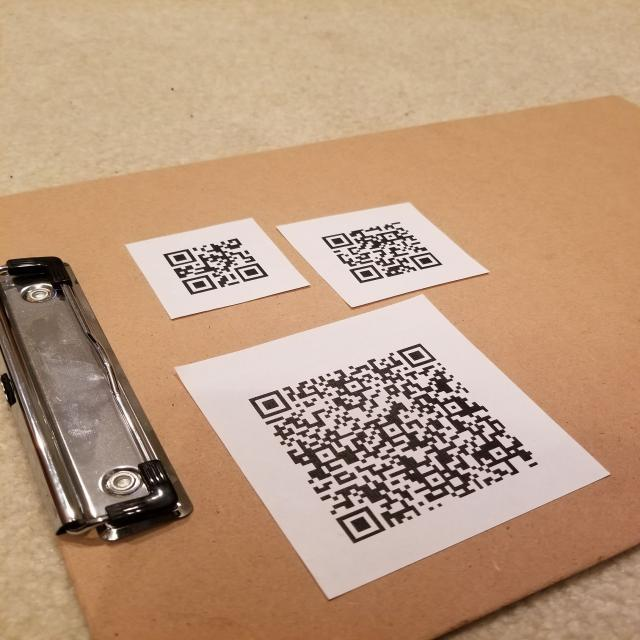qr-code: (237, 334, 550, 551), (316, 211, 450, 291), (150, 226, 280, 302)
